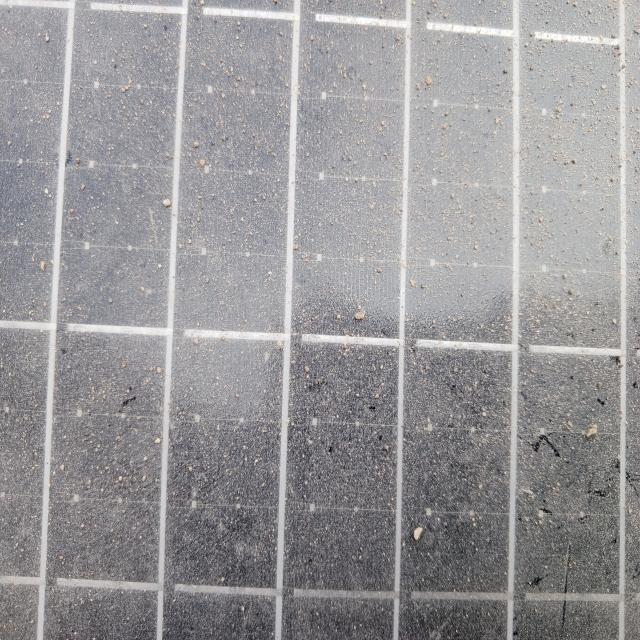Surface Contaminant: (5, 13, 621, 628)
